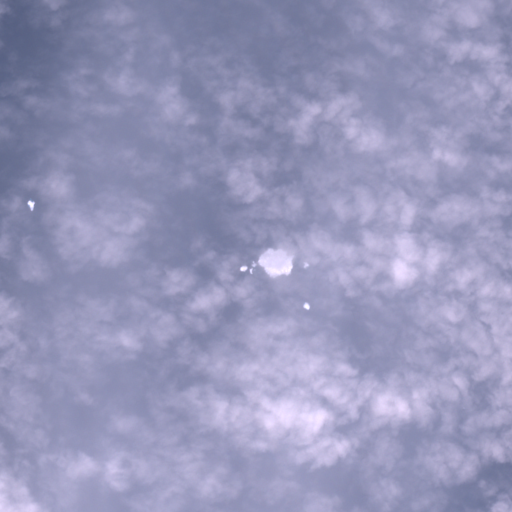Iceberg: (257, 248, 293, 278), (27, 200, 34, 210), (240, 265, 247, 271), (303, 302, 309, 309), (304, 262, 309, 267), (252, 261, 256, 267), (250, 268, 252, 273)
